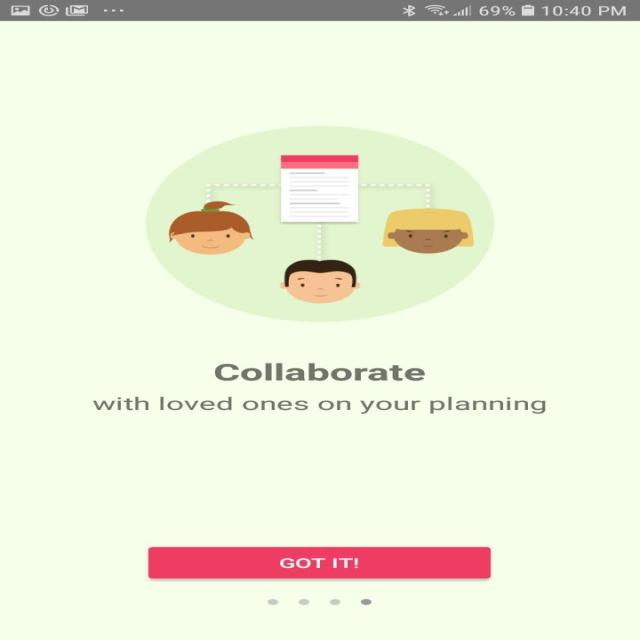Image: (144, 125, 494, 322)
Text: (92, 396, 546, 414), (214, 362, 425, 381)
TextButton: (148, 546, 490, 579)
